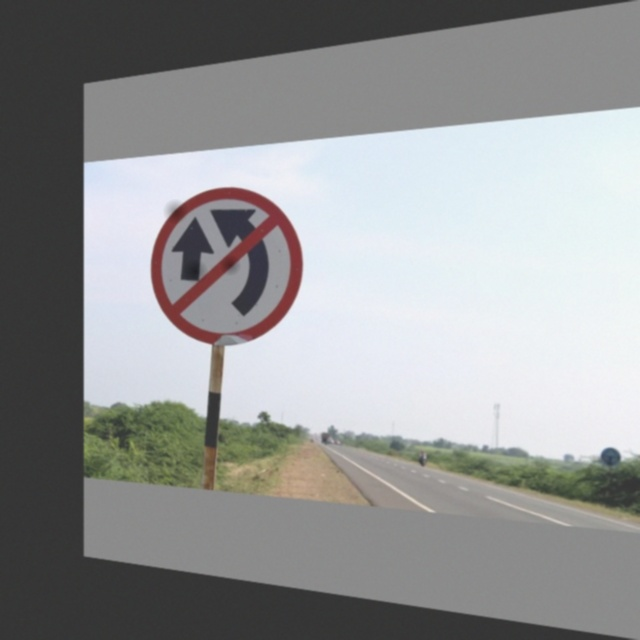Overtaking_Prohibited: (152, 181, 301, 348)
